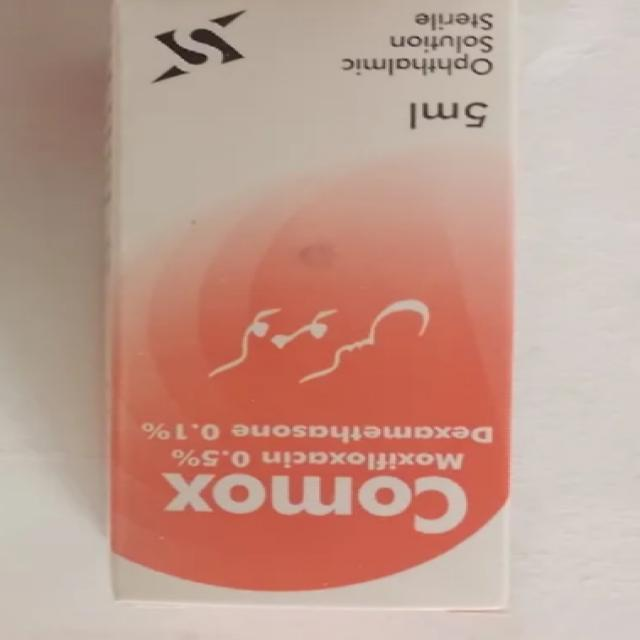drug-name: (152, 468, 470, 537)
